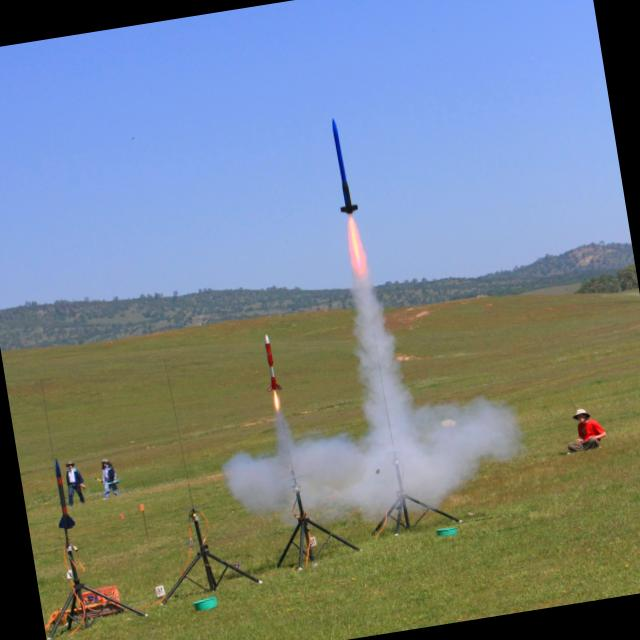rocket: (319, 111, 381, 330)
